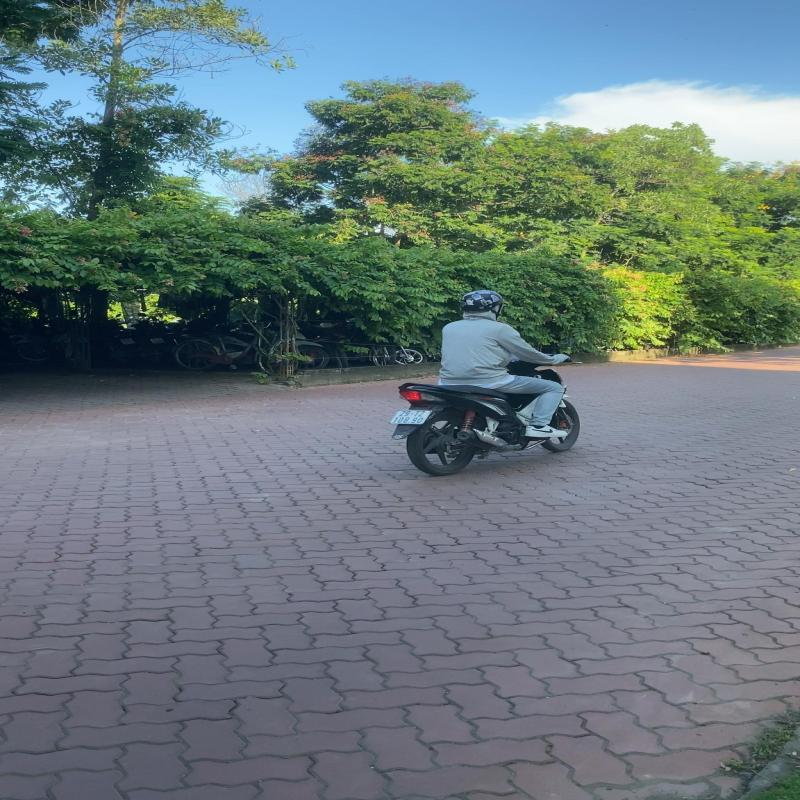helmet: (462, 290, 506, 316)
licenseplate: (392, 410, 432, 424)
motorcyclist: (394, 290, 585, 476)
